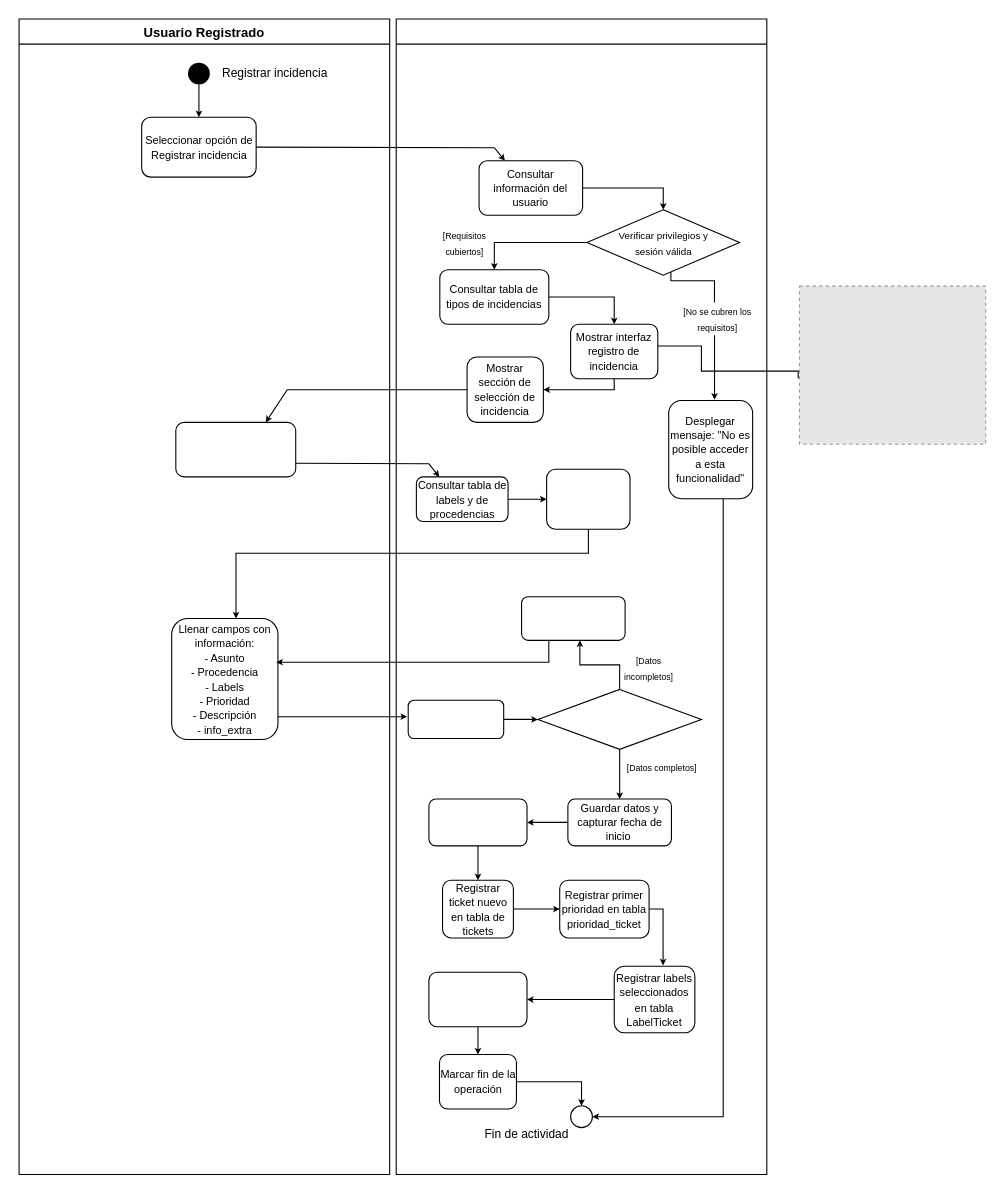
The diagram is 1005 pixels wide and 1194 high, and some of its shapes have lost their labels. Grey dashed boxes stand in for pictures. The box of each missing label's shape, as (x1, y1, x2, y2) in pixels:
Actualizar preguntas en interfaz de registro: (546, 468, 630, 529)
Consultar datos ingresados: (407, 699, 504, 738)
Desplegar mensaje "Datos incompletos": (520, 596, 625, 640)
Desplegar mensaje "incidencia registrada": (428, 971, 527, 1027)
Guardar usuario que registra incidencia: (428, 798, 527, 846)
Seleccionar plantilla de tipo de incidencia: (175, 421, 296, 477)
Sistema: (395, 18, 767, 1174)
Verificar que la información esté completa: (537, 688, 701, 749)
